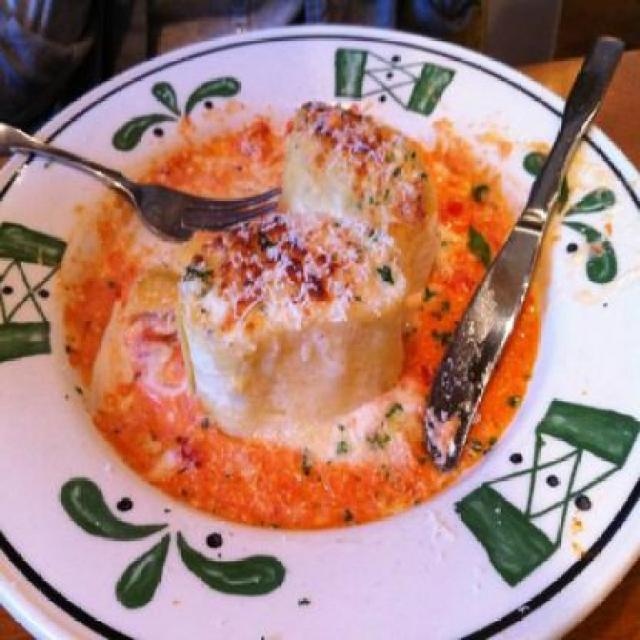Lasagna: (80, 107, 446, 419)
